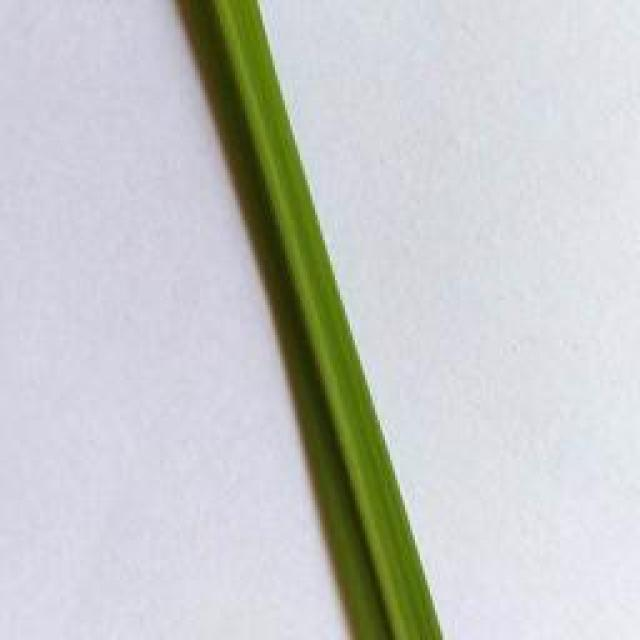Healthy-Plant: (191, 0, 442, 640)
